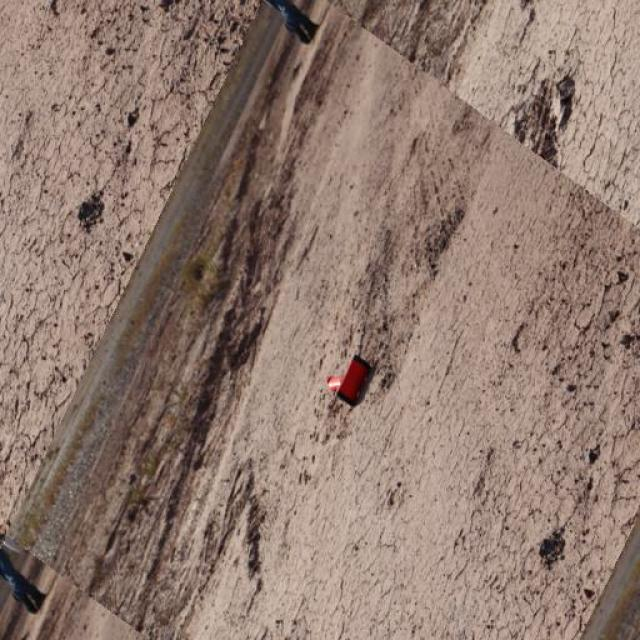mallet: (325, 352, 371, 403)
